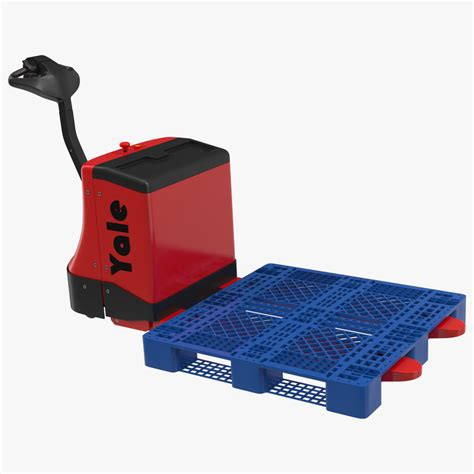Pallet Jack: (8, 55, 468, 417)
